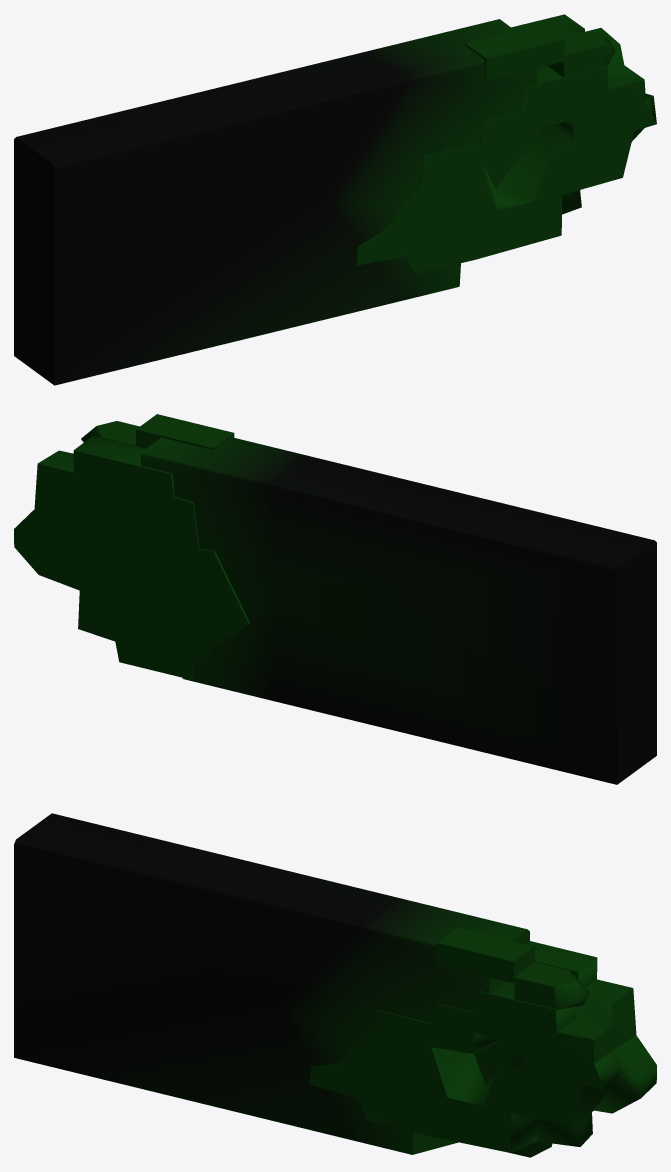
The model's file is DBK_Brick_Top_End.fbx.
3 views of the same model, one above another, from view 1: azimuth 30°, elevation 25°; view 2: azimuth 150°, elevation 25°; view 3: azimuth 330°, elevation 25° (orthographic).
Parts seen in each view (by area): view 1: DBK_Brick_Top_End; view 2: DBK_Brick_Top_End; view 3: DBK_Brick_Top_End.
Part boxes in pixels (bbox=[...]): DBK_Brick_Top_End: bbox=[14, 14, 656, 385]; DBK_Brick_Top_End: bbox=[14, 414, 656, 784]; DBK_Brick_Top_End: bbox=[14, 813, 656, 1157].
Size of the model in its own units: 175 by 60.57 by 21.
